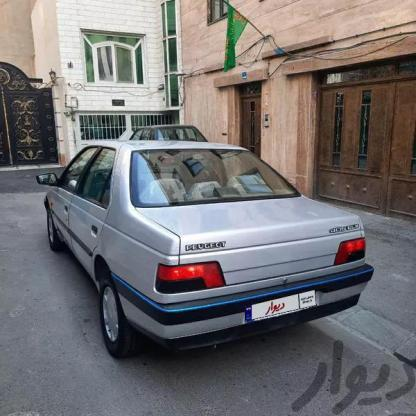Car: (40, 132, 382, 363)
